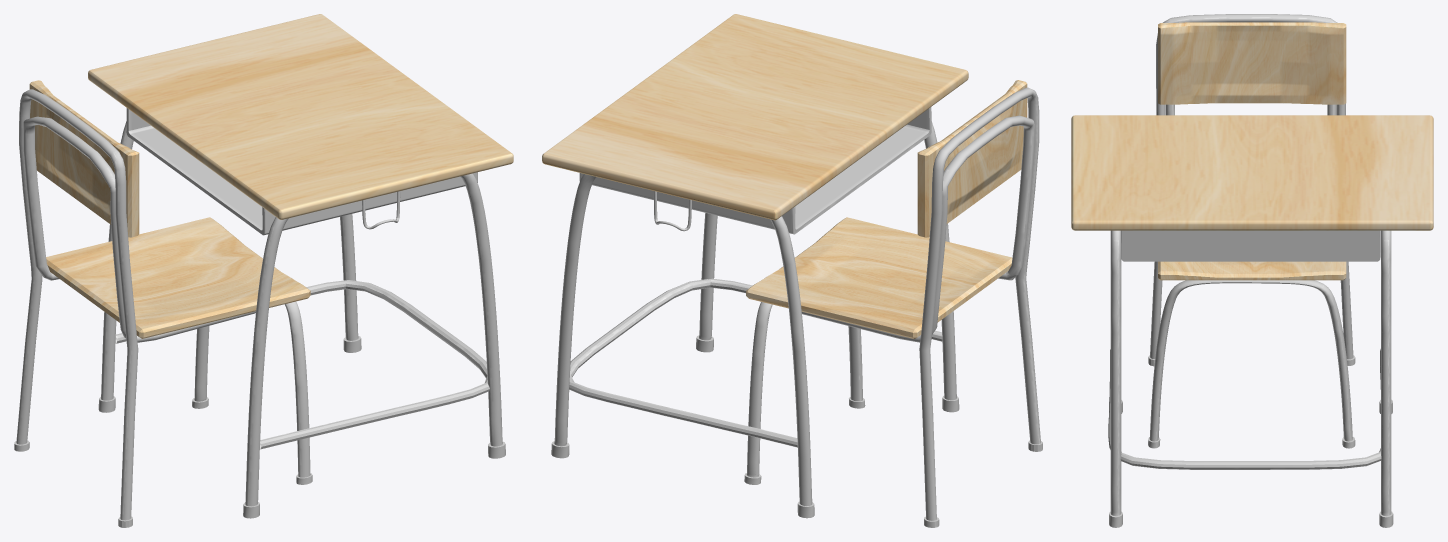
The model's file is school_desk_and_chair.glb.
The picture shows the model from 3 angles, left to right: view 1: azimuth 30°, elevation 25°; view 2: azimuth 150°, elevation 25°; view 3: azimuth 270°, elevation 25°; orthographic projection. The views are drawn at different scales.
Parts seen in each view (by area): view 1: TAPA4, ASIENTO1, PATAS_T, PATAS_D2, RESPALDO1, CAJON, UNION, EXTRA, PATAS_D, PATAS_D1; view 2: TAPA4, ASIENTO1, PATAS_T, PATAS_D1, RESPALDO1, CAJON, UNION, EXTRA, PATAS_D2, PATAS_D; view 3: TAPA4, RESPALDO1, CAJON, PATAS_D, ASIENTO1, PATAS_D2, PATAS_T, PATAS_D1, UNION.
Boxes of the visible parts, x1=… form: TAPA4: x1=88, y1=14, x2=513, y2=219; ASIENTO1: x1=46, y1=217, x2=310, y2=338; PATAS_T: x1=14, y1=89, x2=138, y2=527; PATAS_D2: x1=243, y1=173, x2=505, y2=518; RESPALDO1: x1=29, y1=80, x2=139, y2=237; CAJON: x1=126, y1=108, x2=477, y2=235; UNION: x1=115, y1=280, x2=489, y2=449; EXTRA: x1=23, y1=116, x2=255, y2=342; PATAS_D: x1=192, y1=301, x2=312, y2=484; PATAS_D1: x1=98, y1=121, x2=361, y2=412; TAPA4: x1=542, y1=14, x2=968, y2=220; ASIENTO1: x1=746, y1=217, x2=1012, y2=338; PATAS_T: x1=919, y1=87, x2=1042, y2=527; PATAS_D1: x1=551, y1=174, x2=814, y2=518; RESPALDO1: x1=917, y1=80, x2=1027, y2=237; CAJON: x1=579, y1=107, x2=931, y2=234; UNION: x1=569, y1=278, x2=942, y2=447; EXTRA: x1=801, y1=115, x2=1034, y2=342; PATAS_D2: x1=696, y1=121, x2=959, y2=412; PATAS_D: x1=744, y1=302, x2=865, y2=484; TAPA4: x1=1071, y1=115, x2=1433, y2=230; RESPALDO1: x1=1158, y1=22, x2=1346, y2=104; CAJON: x1=1121, y1=230, x2=1380, y2=261; PATAS_D: x1=1148, y1=280, x2=1355, y2=448; ASIENTO1: x1=1158, y1=261, x2=1346, y2=280; PATAS_D2: x1=1109, y1=230, x2=1122, y2=527; PATAS_T: x1=1148, y1=14, x2=1355, y2=366; PATAS_D1: x1=1379, y1=230, x2=1393, y2=527; UNION: x1=1108, y1=349, x2=1381, y2=469.
Bounding box in the file's own units: 7.43 × 7.05 × 6.63.
2 materials, 2 textured.
